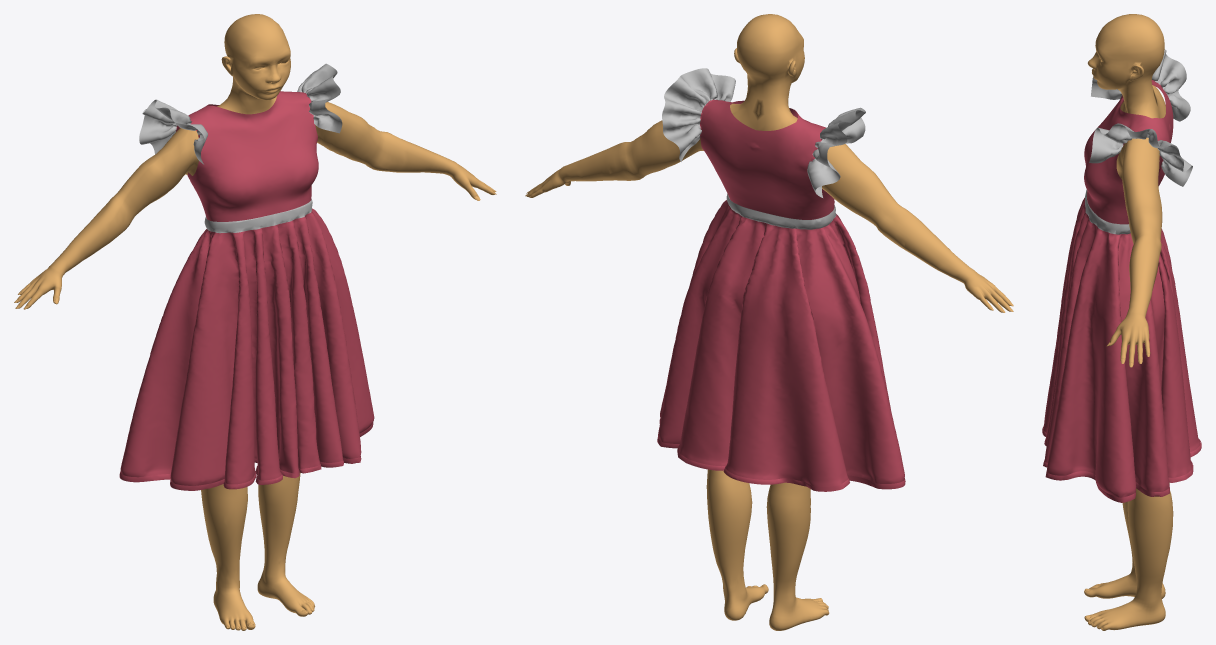
Rendered from dress4.glb.
The picture shows the model from 3 angles, left to right: view 1: azimuth 30°, elevation 25°; view 2: azimuth 150°, elevation 25°; view 3: azimuth 270°, elevation 25°; orthographic projection.
Visible parts, largest first — view 1: PinkDrees#14 (OBJ), Body; view 2: PinkDrees#14 (OBJ), Body; view 3: PinkDrees#14 (OBJ), Body.
Boxes of the visible parts, x1=… form: PinkDrees#14 (OBJ): x1=119, y1=63, x2=374, y2=490; Body: x1=16, y1=14, x2=496, y2=630; PinkDrees#14 (OBJ): x1=657, y1=68, x2=905, y2=491; Body: x1=526, y1=14, x2=1010, y2=630; PinkDrees#14 (OBJ): x1=1042, y1=49, x2=1201, y2=502; Body: x1=1084, y1=14, x2=1173, y2=630.
Size of the model in its own units: 1.58 by 1.85 by 0.451.
